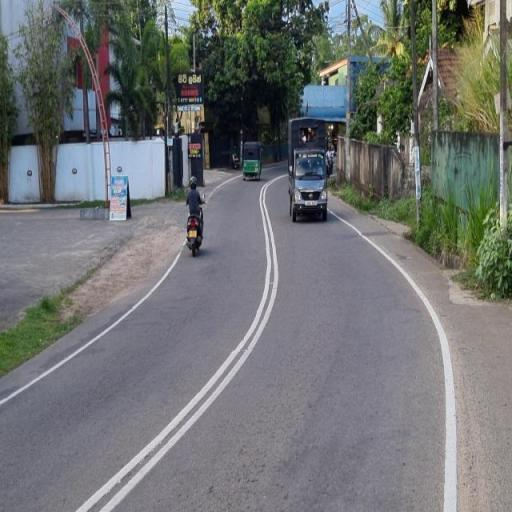double_white_line: (77, 229, 279, 512)
